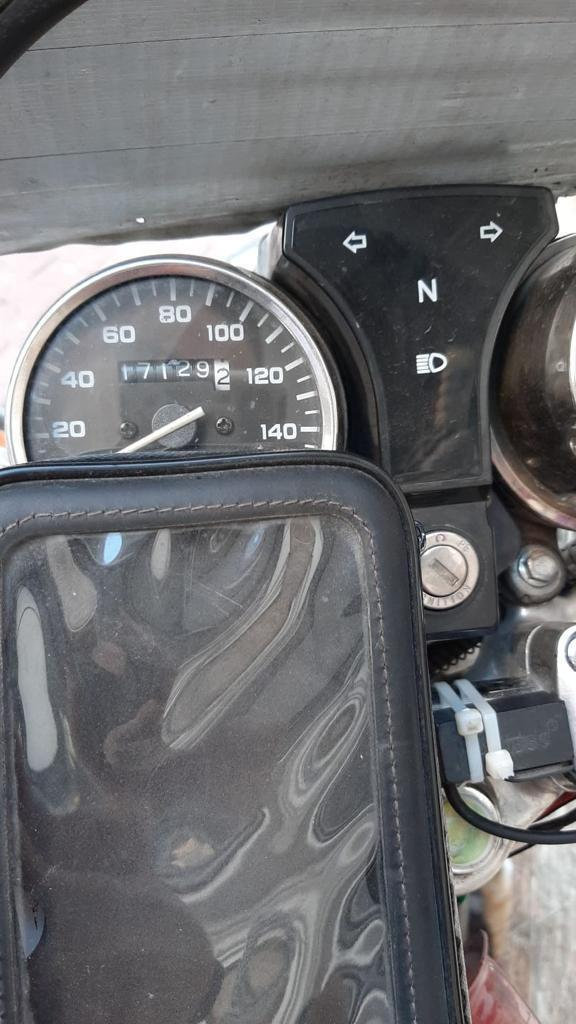1: (161, 362, 167, 379), (122, 363, 127, 380)
2: (216, 368, 229, 385), (177, 360, 190, 376)
7: (136, 361, 150, 379)
9: (195, 360, 209, 378)
odometer: (115, 357, 232, 392)
